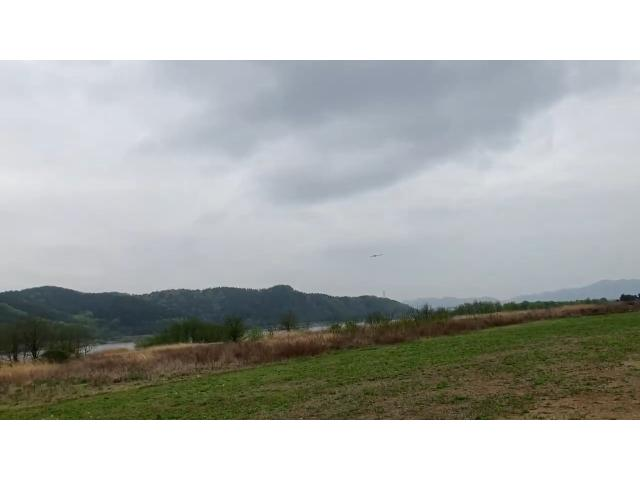Anti-Drone: (363, 248, 389, 262)
